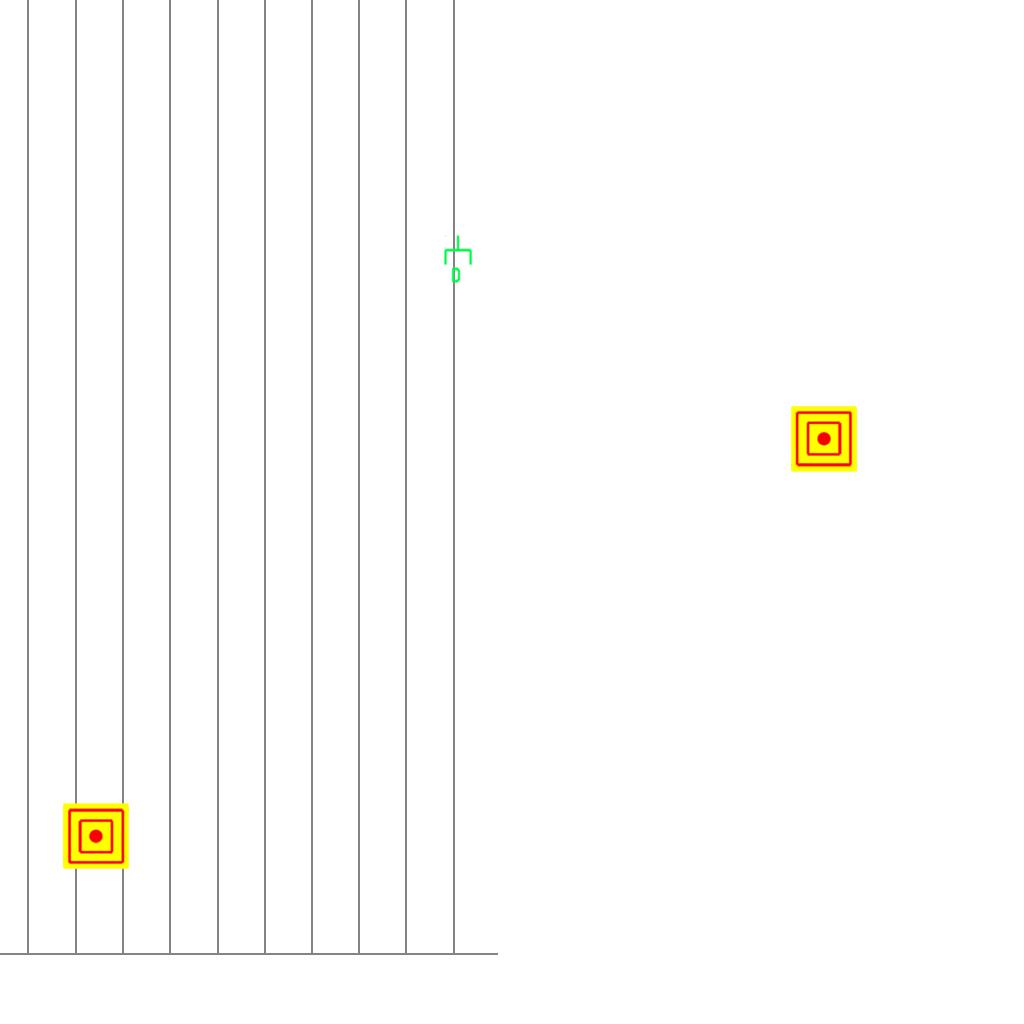Datenanschluss_einfach: (442, 234, 476, 284)
NAM-Nichtautomatischer_Melder: (791, 406, 857, 472), (63, 803, 129, 869)
